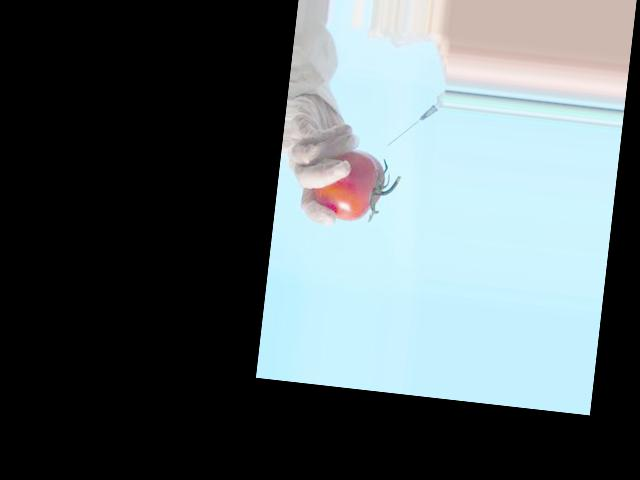tomato: (310, 147, 387, 225)
